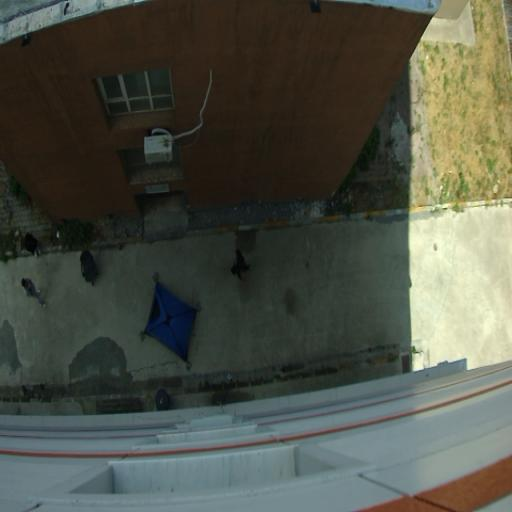tent: (136, 269, 205, 375)
